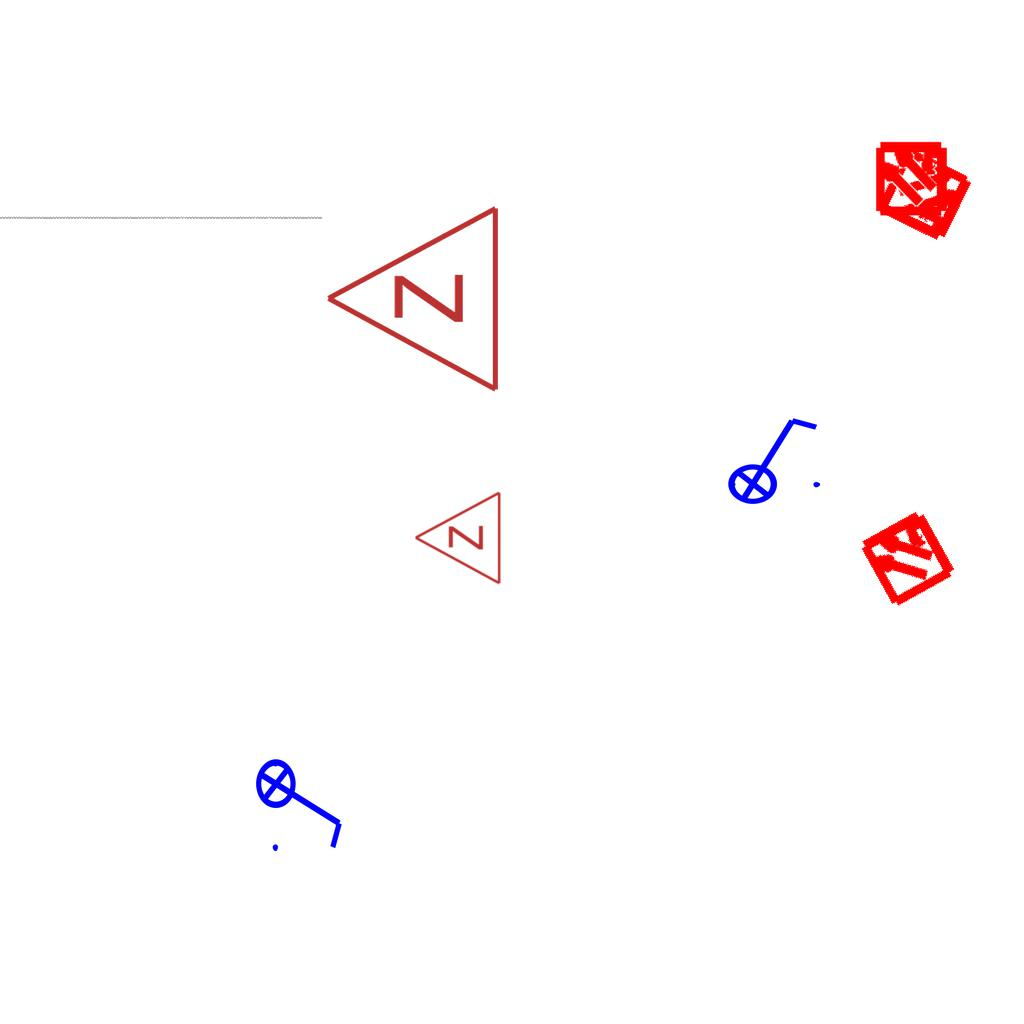Ausschalter_beleuchtet: (714, 410, 826, 506), (254, 745, 350, 857)
OT_Multisensormelder_(Kombination_RMO_WMD): (829, 479, 984, 634), (850, 119, 1003, 272), (855, 120, 968, 233)
Zimmersignalleuchte: (313, 203, 513, 399), (408, 490, 508, 588)
